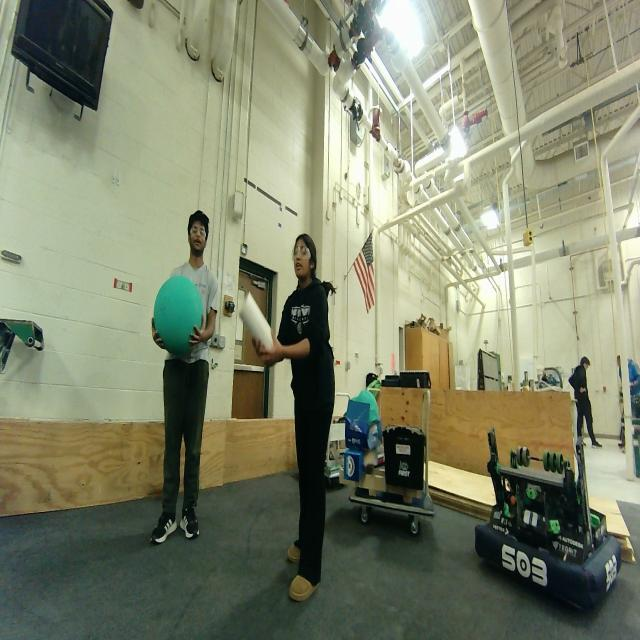algae: (152, 276, 203, 358)
coral: (240, 293, 276, 351)
